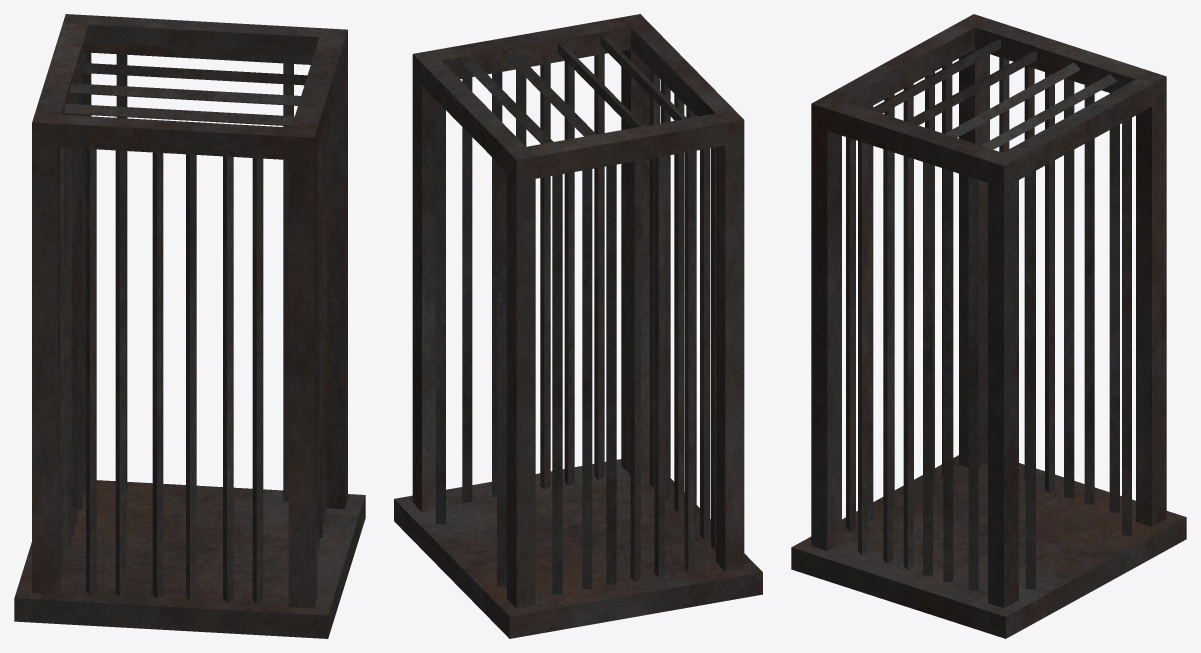
The model's file is cage2.glb.
3 views of the same model, side by side, from view 1: azimuth 30°, elevation 25°; view 2: azimuth 150°, elevation 25°; view 3: azimuth 270°, elevation 25° (orthographic). The views are drawn at different scales.
Parts seen in each view (by area): view 1: cage2; view 2: cage2; view 3: cage2.
Boxes of the visible parts, x1,y1,x2,y2 form: cage2: [14, 14, 365, 638]; cage2: [394, 14, 762, 638]; cage2: [791, 14, 1186, 638].
Size of what is drawn, in the model's own units: 1.69 by 2.16 by 1.67.
1 material, 1 textured.
